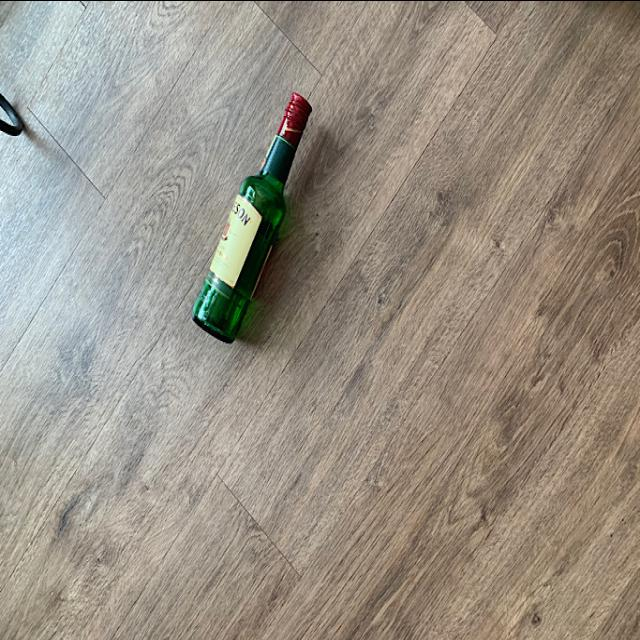litter: (190, 86, 318, 344)
